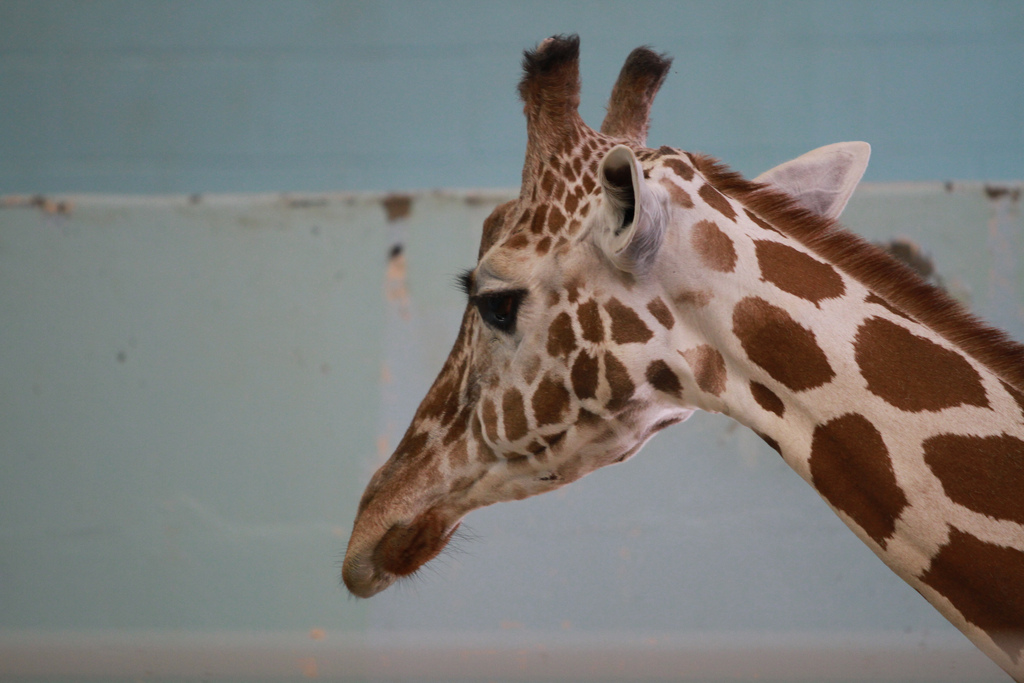giraffe: (326, 42, 1000, 636)
